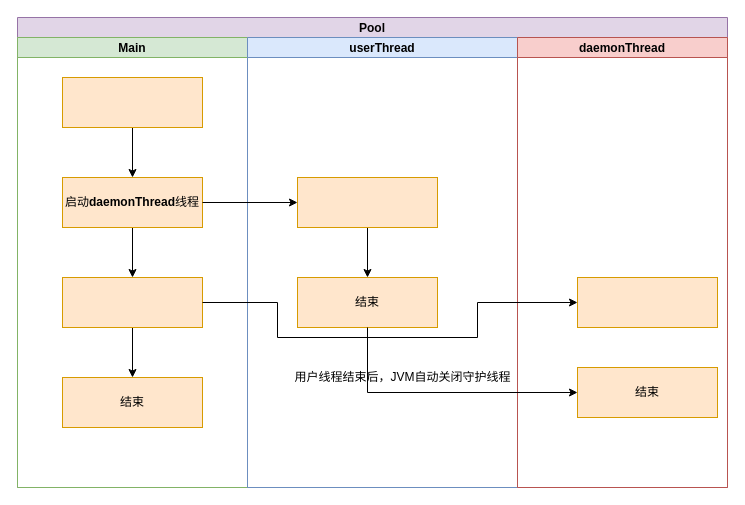
Image size: 745x505. Some labels were removed from this diagram. The shapes that lost their labels are listed below. From the top down, each one's centre as x and y in pixels, then its label:
At point 132,102: "Main线程启动".
At point 367,202: "间隔500ms打印一次守护状态，循环五次".
At point 132,302: "启动 userThread 线程".
At point 647,302: "间隔500ms打印一次守护状态，无限循环".
